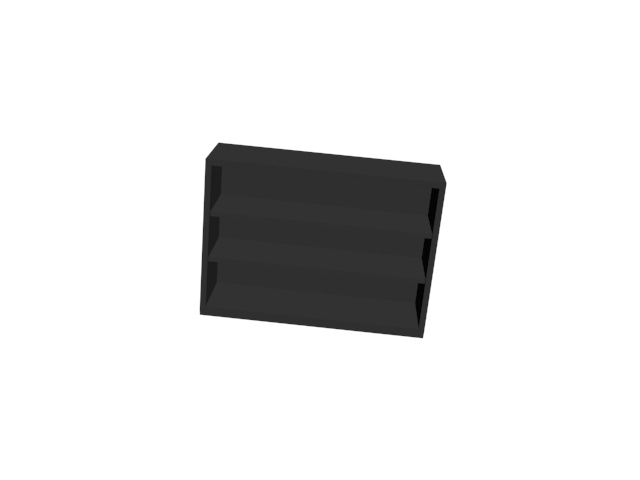bookcase: (193, 137, 448, 344)
